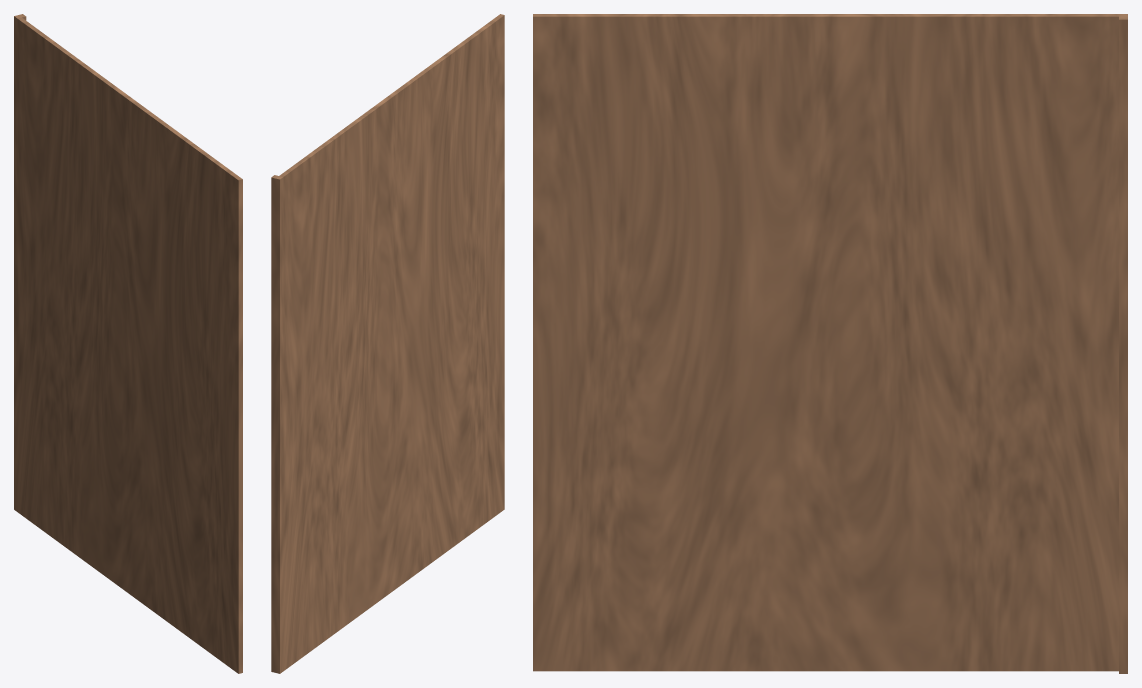
Rendered from ClosetDoorR.glb.
3 views of the same model, side by side, from view 1: azimuth 30°, elevation 25°; view 2: azimuth 150°, elevation 25°; view 3: azimuth 270°, elevation 25° (orthographic). The views are drawn at different scales.
Visible parts, largest first — view 1: Closet Door R; view 2: Closet Door R; view 3: Closet Door R.
Part boxes in pixels (x1,y1,x2,y2): Closet Door R: [14, 14, 242, 673]; Closet Door R: [271, 14, 504, 673]; Closet Door R: [533, 14, 1127, 673].
Bounding box in the file's own units: 0.1 × 5.4 × 4.45.
1 material, 1 textured.
